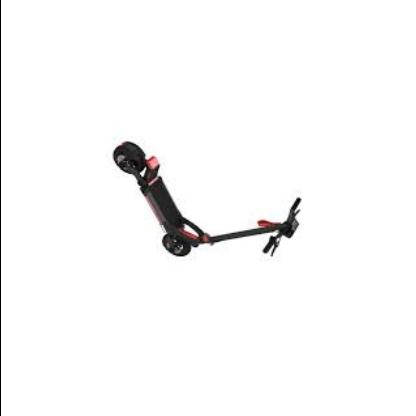bike: (113, 141, 303, 258)
